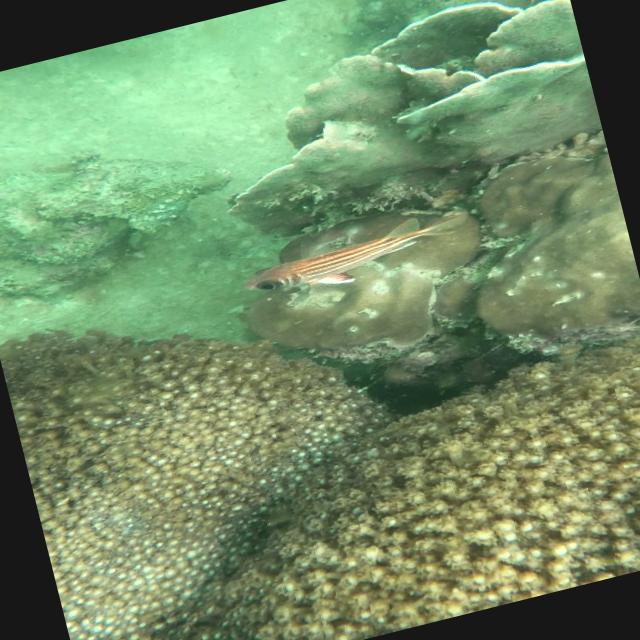Asker Baligi: (238, 201, 480, 310)
